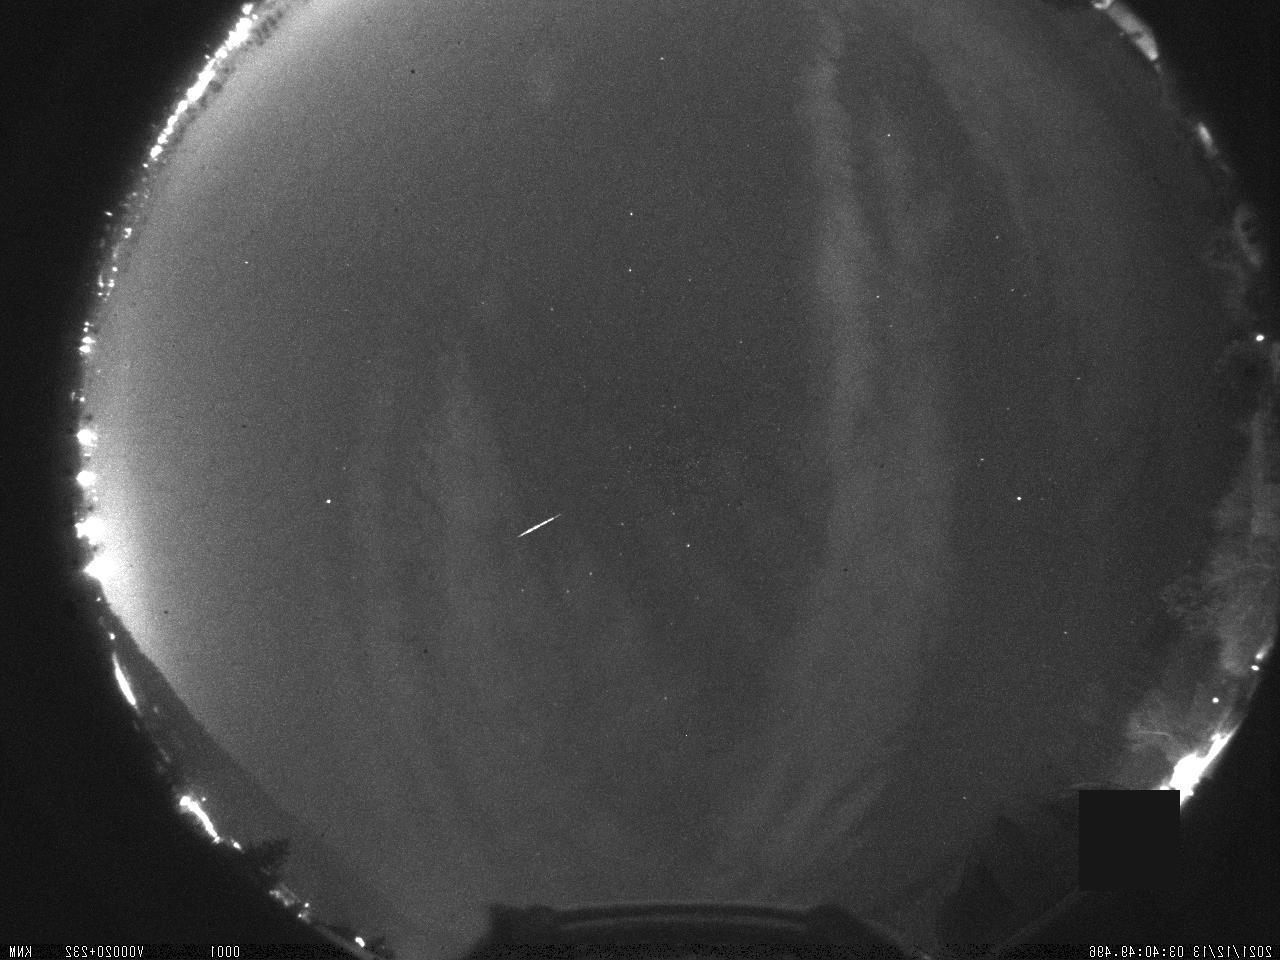meteor: (513, 508, 564, 544)
